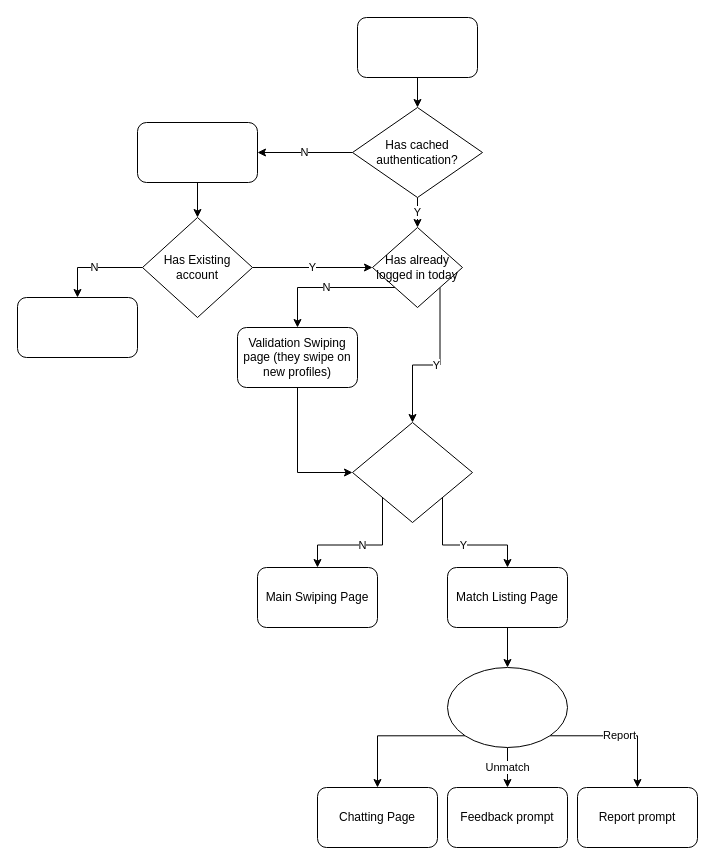
The diagram is 715 pixels wide and 865 high, and some of its shapes have lost their labels. Each missing label, with the box of its shape:
do they have 5 matches already?: (352, 422, 472, 522)
Go to sign up: (16, 296, 138, 358)
Login Landing Page: (136, 122, 258, 182)
Select a match: (446, 666, 568, 748)
Start: (356, 16, 478, 78)
